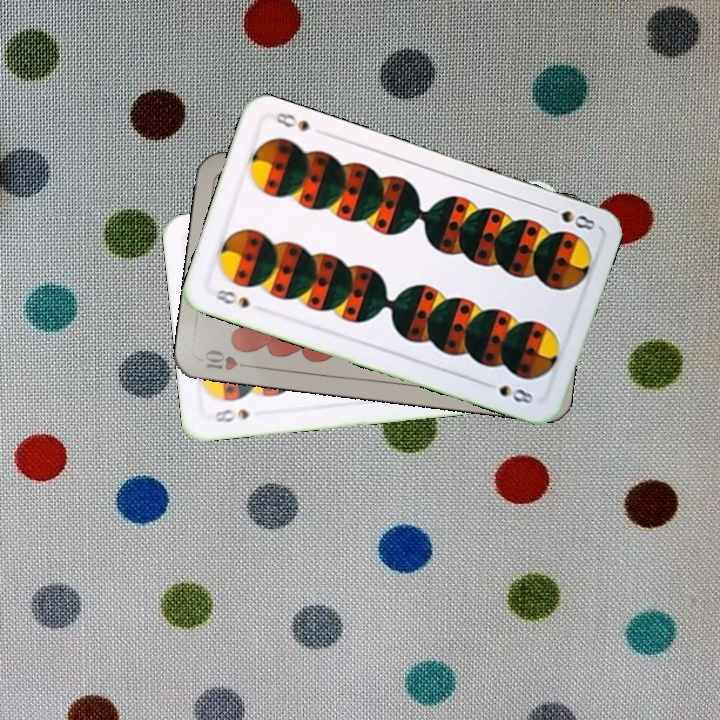H10: (200, 345, 257, 373)
S8: (541, 203, 598, 233), (211, 285, 252, 311), (211, 405, 252, 426)
